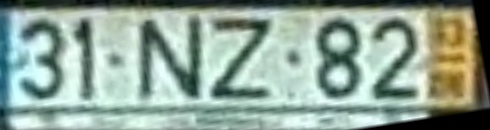1: (66, 16, 100, 105)
2: (366, 15, 421, 102)
3: (9, 17, 72, 104)
8: (309, 16, 365, 102)
N: (133, 15, 205, 105)
Z: (206, 17, 277, 105)
